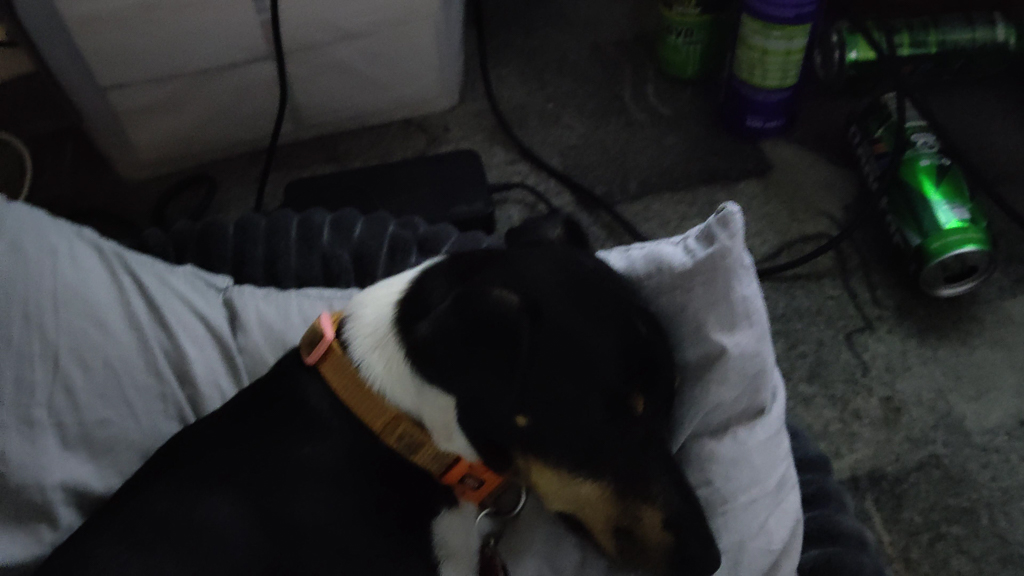Dog: (0, 194, 740, 576)
